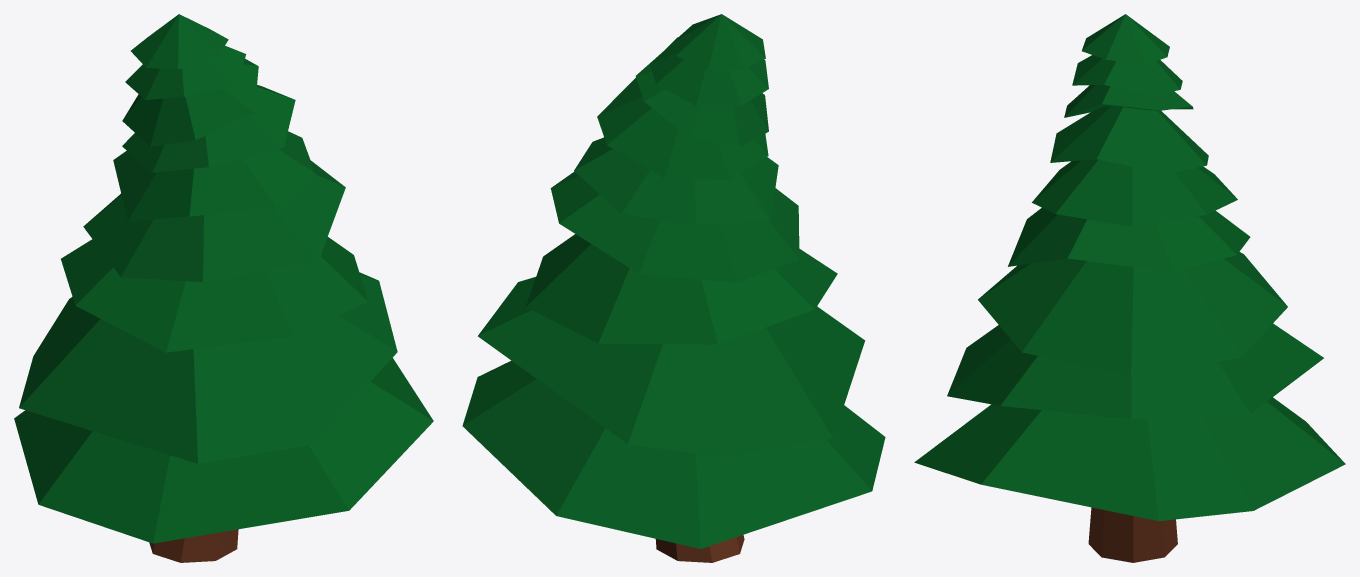
File: tree2.fbx
The picture shows the model from 3 angles, left to right: view 1: azimuth 30°, elevation 25°; view 2: azimuth 150°, elevation 25°; view 3: azimuth 270°, elevation 25°; orthographic projection. The views are drawn at different scales.
Parts seen in each view (by area): view 1: Cone.001, Cylinder.001; view 2: Cone.001, Cylinder.001; view 3: Cone.001, Cylinder.001.
Boxes of the visible parts, box(x1,y1,x2,y2) form: Cone.001: box(14, 14, 433, 543); Cylinder.001: box(149, 529, 238, 562); Cone.001: box(462, 14, 885, 548); Cylinder.001: box(655, 535, 744, 562); Cone.001: box(914, 14, 1345, 521); Cylinder.001: box(1088, 507, 1177, 562).
Bounding box in the file's own units: 182 × 249 × 187.
